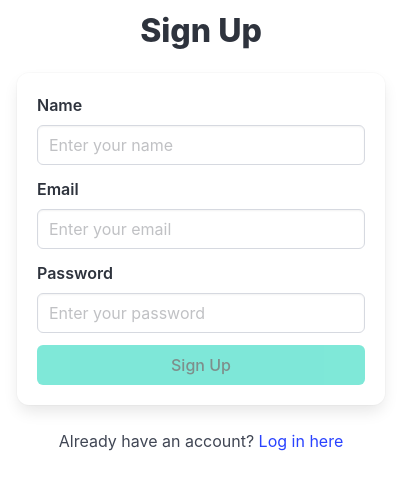
Test: SignupPage Component › handles signup errors gracefully
The width and height of the screenshot is (403, 492).
Type "John Doe" into the field labelled "Name" at (201, 145), box [37,125,365,165]
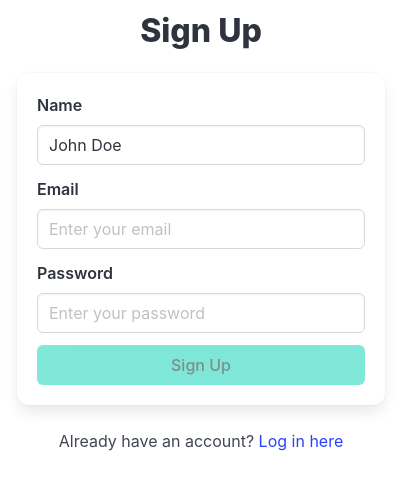
Type "john@example.com" into the field labelled "Email" at (201, 229), box [37,209,365,249]
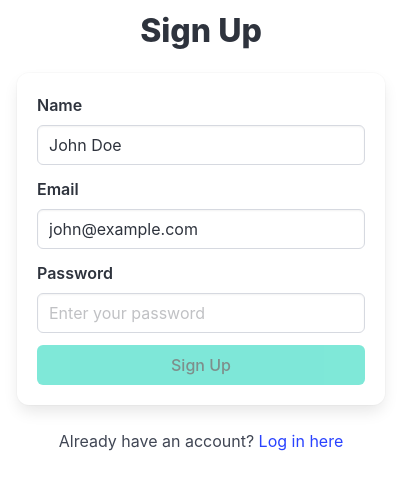
Type "password123" into the password field labelled "Password" at (201, 313), box [37,293,365,333]
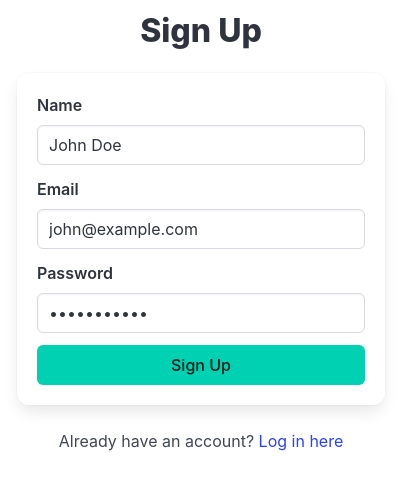
Click the button "Sign Up" at (201, 365), box [37,345,365,385]
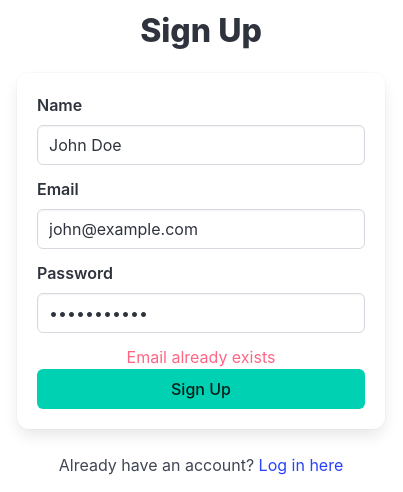
Check: the message reads "Email already exists", box [126,347,275,367]
